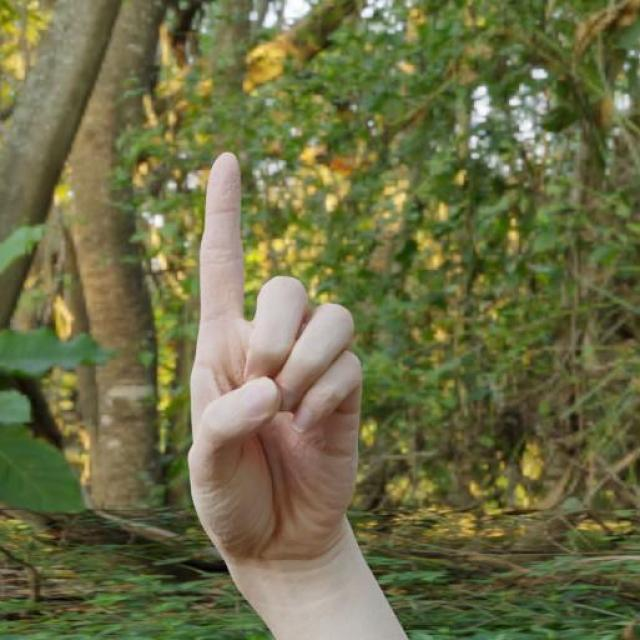D: (185, 142, 373, 590)
